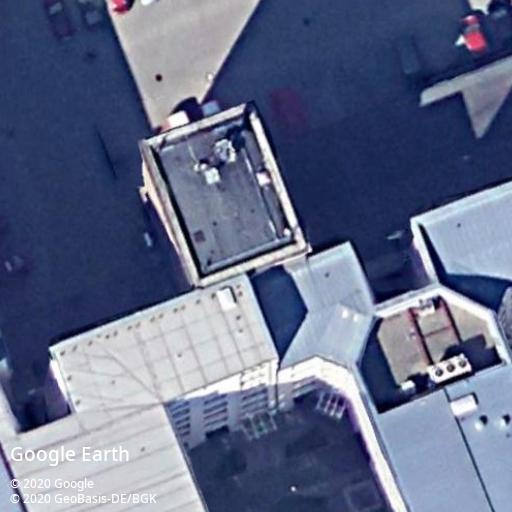Chiller: (425, 352, 474, 384)
